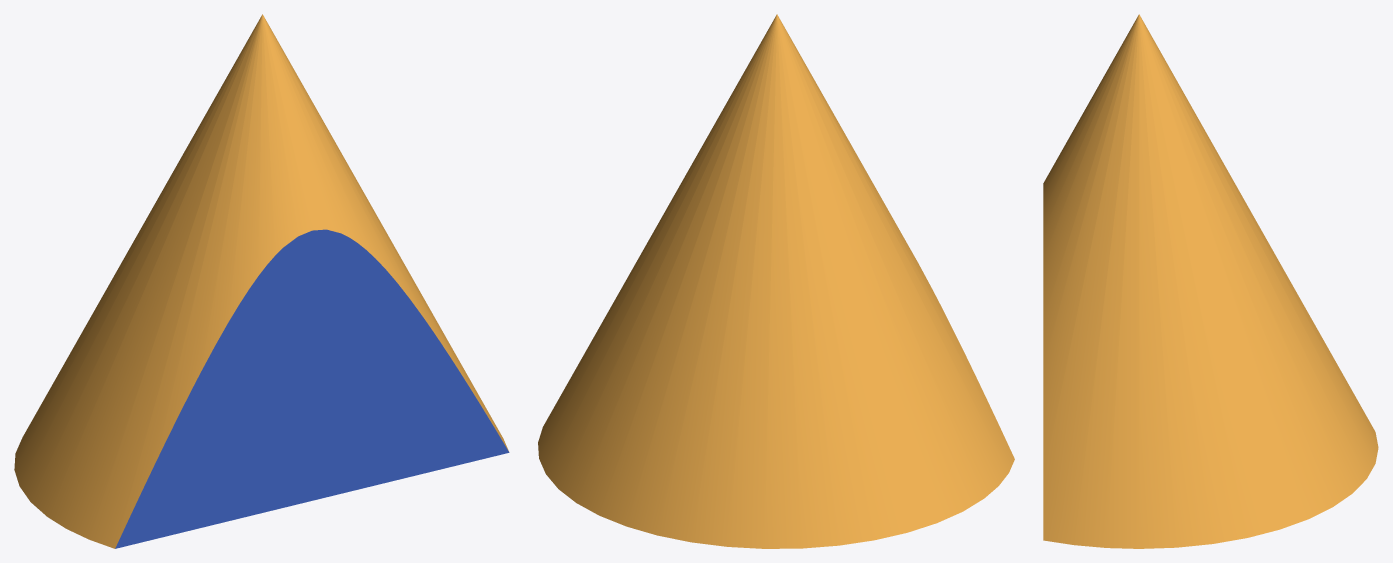
The picture shows the model from 3 angles, left to right: view 1: azimuth 30°, elevation 25°; view 2: azimuth 150°, elevation 25°; view 3: azimuth 270°, elevation 25°; orthographic projection. The views are drawn at different scales.
Parts seen in each view (by area): view 1: ÇÐ³ý-ÀÉì1; view 2: ÇÐ³ý-ÀÉì1; view 3: ÇÐ³ý-ÀÉì1.
Part boxes in pixels (<box>): ÇÐ³ý-ÀÉì1: <box>14,14,509,548</box>; ÇÐ³ý-ÀÉì1: <box>538,14,1014,548</box>; ÇÐ³ý-ÀÉì1: <box>1043,14,1378,548</box>.
Bounding box in the file's own units: 40 × 40 × 28.
